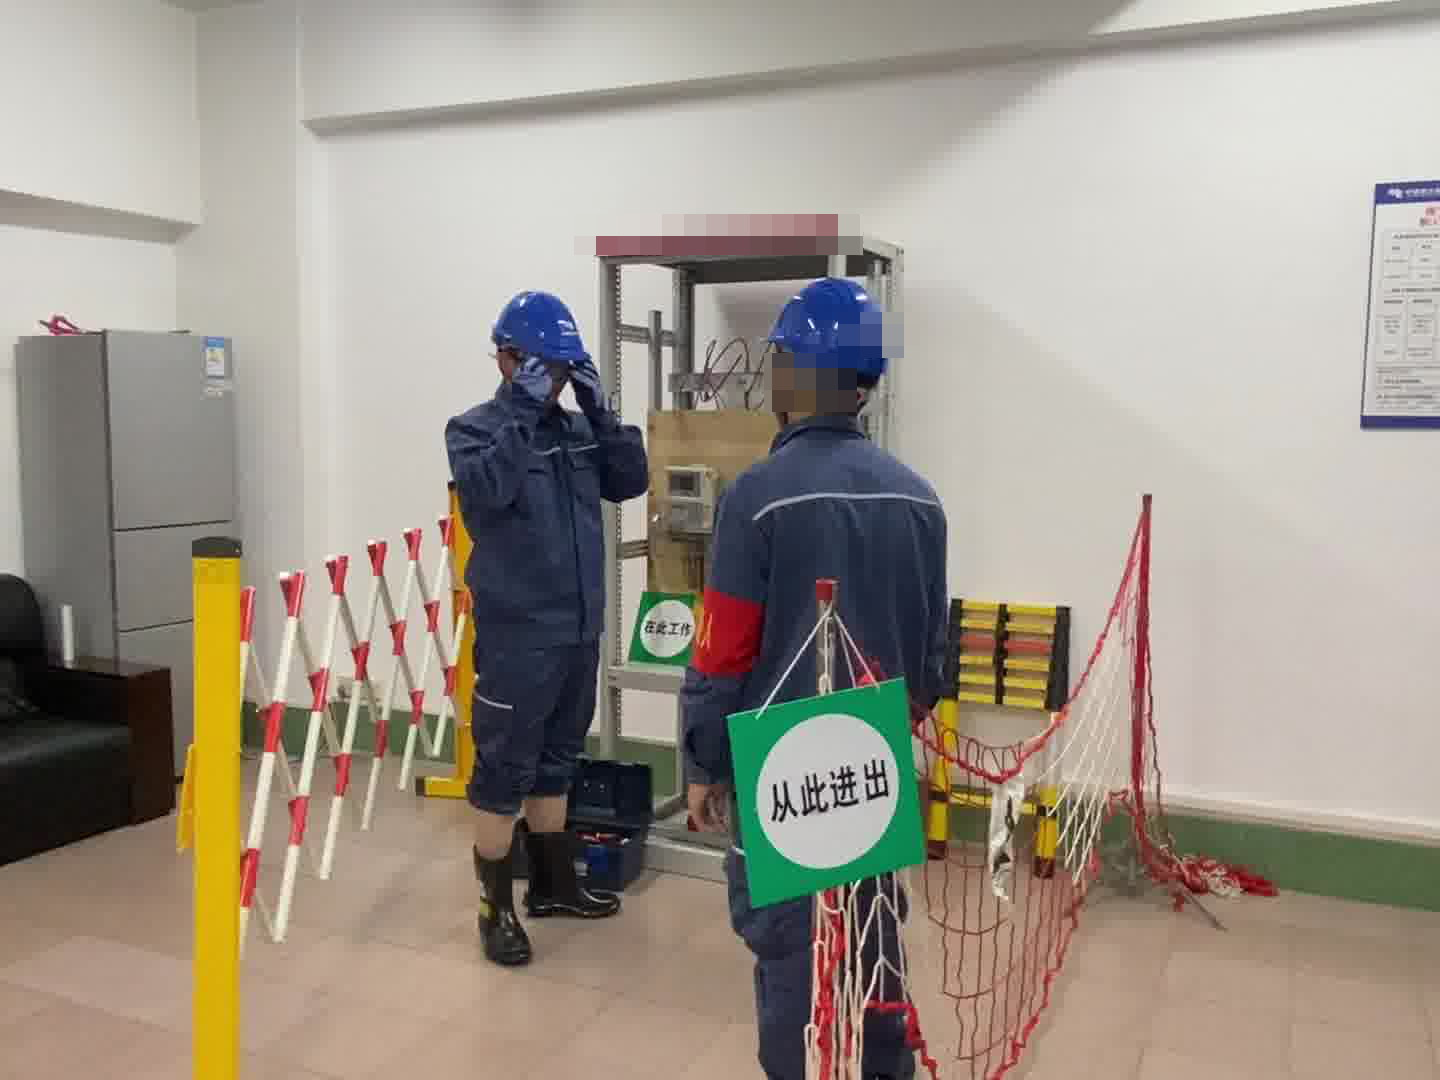badge: (689, 585, 766, 679)
downsuit: (466, 637, 597, 807)
glove: (567, 354, 610, 413), (510, 357, 554, 403)
halt: (764, 276, 894, 419), (488, 290, 586, 387)
hand: (681, 774, 733, 836)
inear: (765, 343, 813, 421)
intosign: (727, 675, 934, 911)
person: (445, 288, 651, 969), (672, 272, 965, 711)
shoe: (466, 841, 536, 969), (525, 834, 621, 920)
upsuit: (685, 423, 958, 710), (443, 384, 650, 588)
worksign: (626, 589, 704, 669)
wrongbottom: (461, 775, 575, 858)
